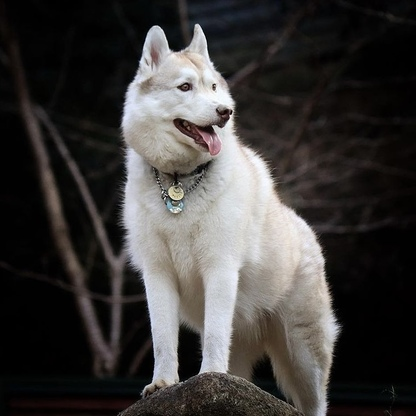husky: (112, 18, 346, 416)
